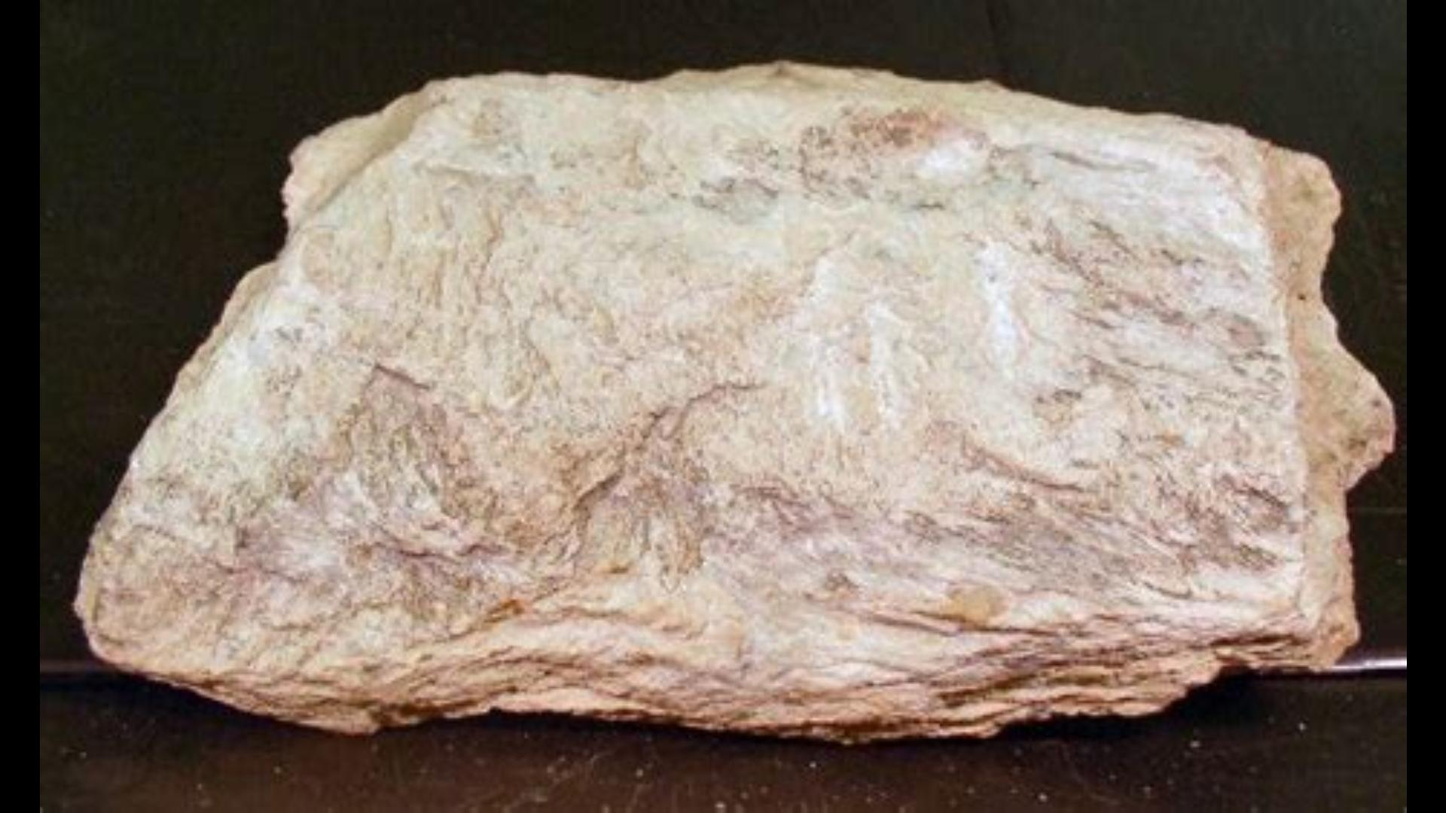rock: (77, 84, 1389, 732)
